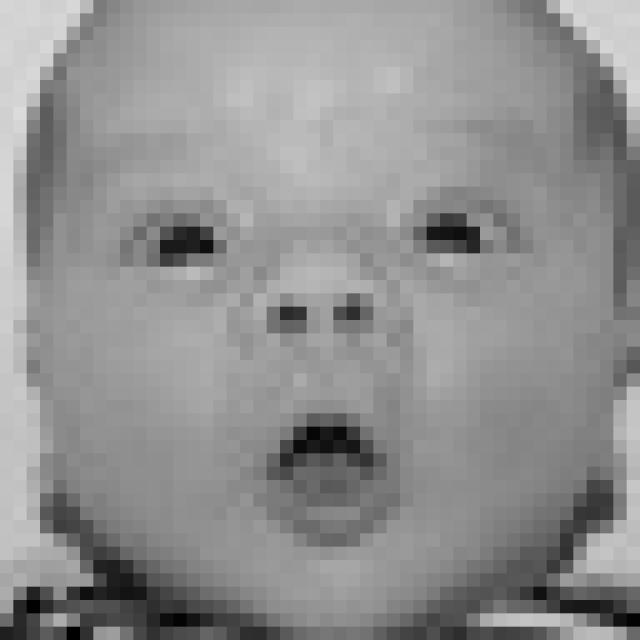surprise: (98, 106, 572, 554)
